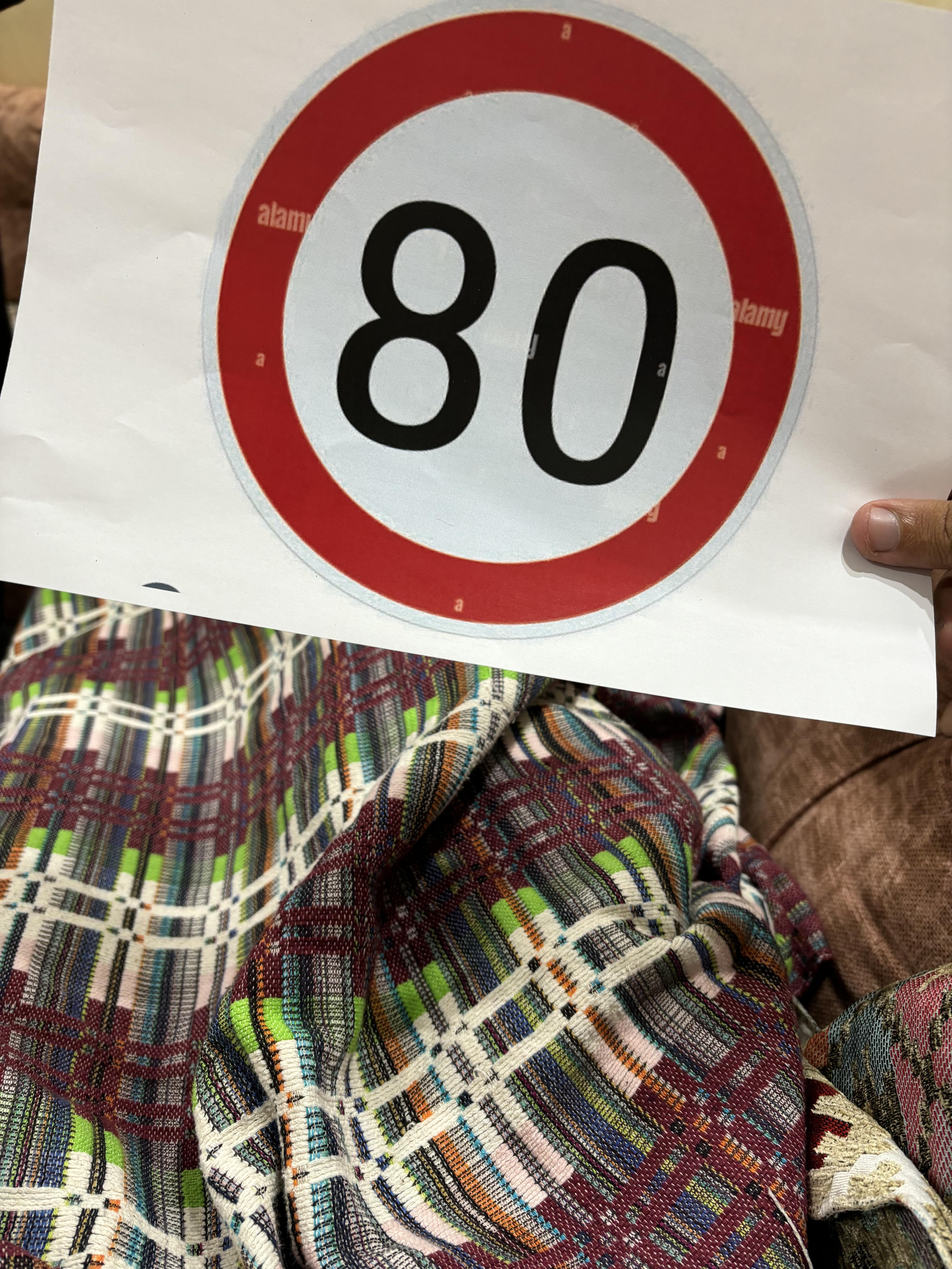80-Speed: (207, 5, 824, 643)
